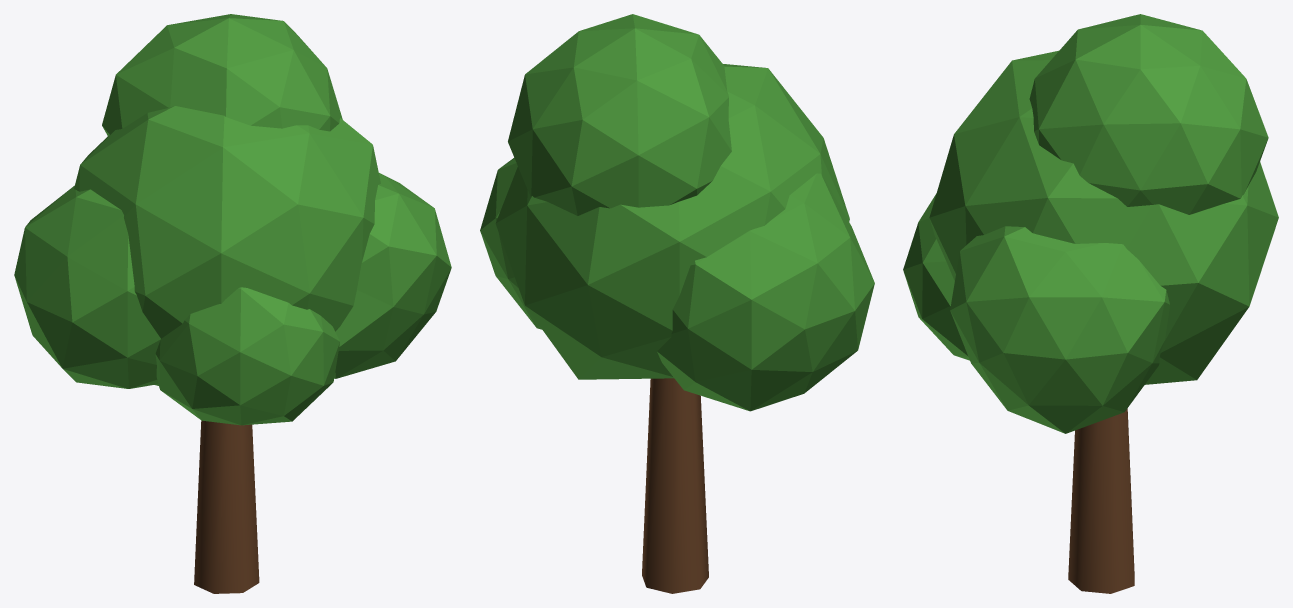
Rendered from tree.glb.
The picture shows the model from 3 angles, left to right: view 1: azimuth 30°, elevation 25°; view 2: azimuth 150°, elevation 25°; view 3: azimuth 270°, elevation 25°; orthographic projection. The views are drawn at different scales.
Visible parts, largest first — view 1: tree; view 2: tree; view 3: tree.
Boxes of the visible parts, x1,y1,x2,y2 form: tree: [14, 14, 451, 593]; tree: [480, 14, 874, 593]; tree: [903, 14, 1278, 593].
Bounding box in the file's own units: 3.63 × 5 × 3.01.
